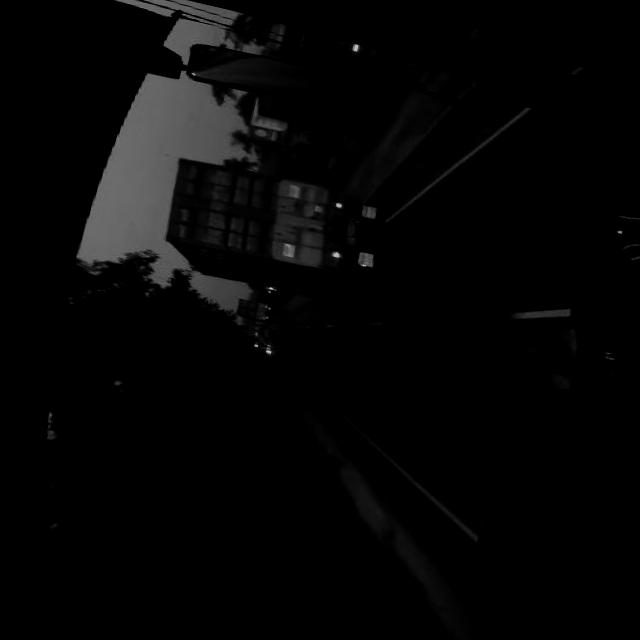truck: (153, 151, 407, 317), (252, 21, 388, 141), (234, 297, 283, 326)
